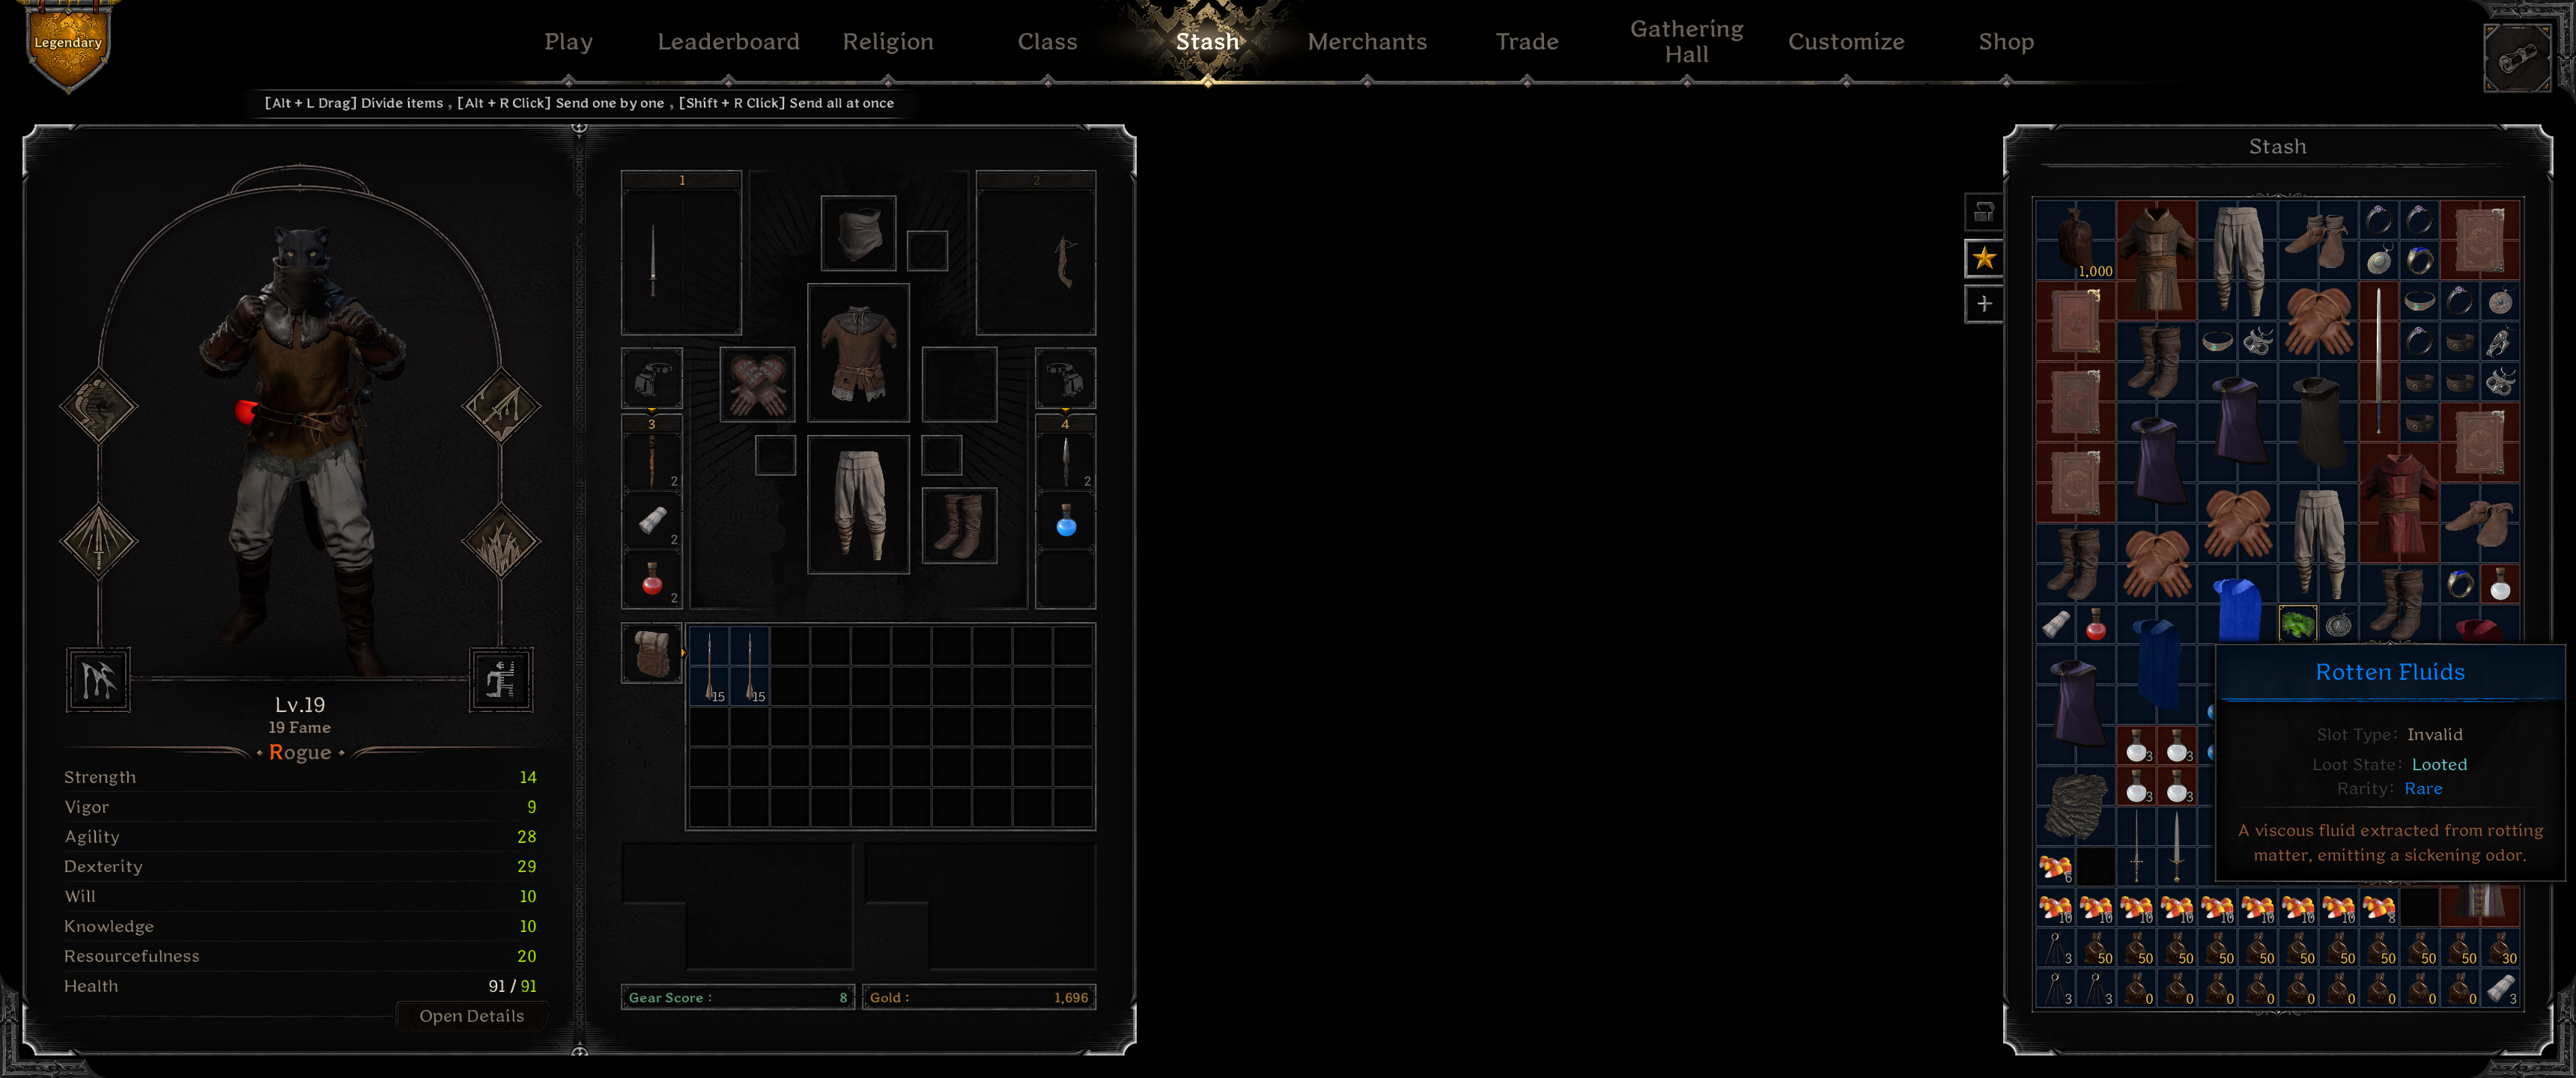Tooltip: (2215, 643, 2566, 882)
